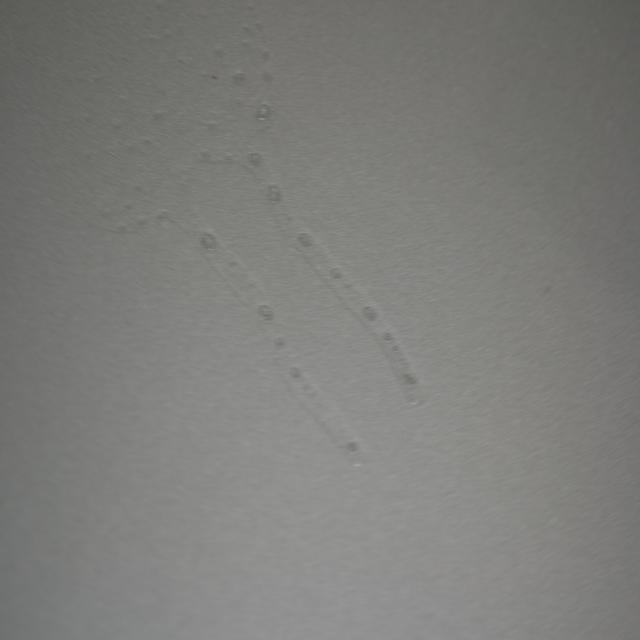runs: (80, 38, 425, 469)
